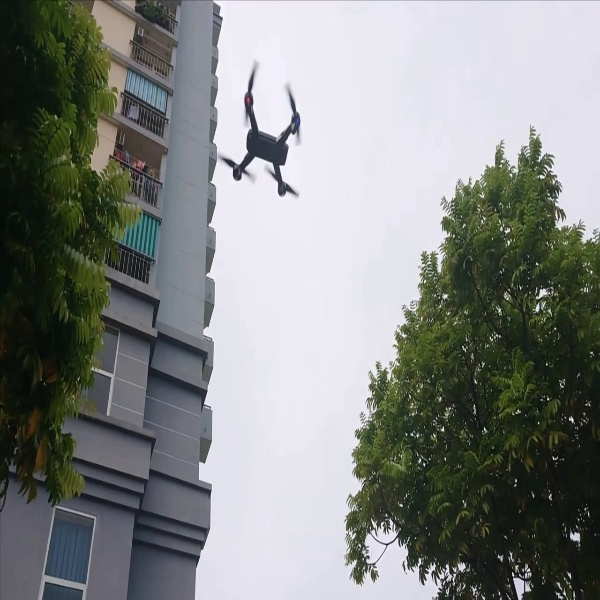drone: (218, 57, 310, 206)
